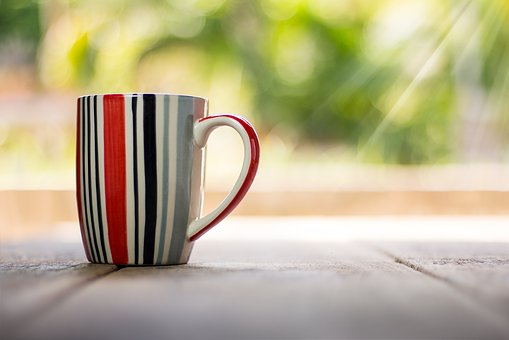cup: (67, 75, 263, 277)
